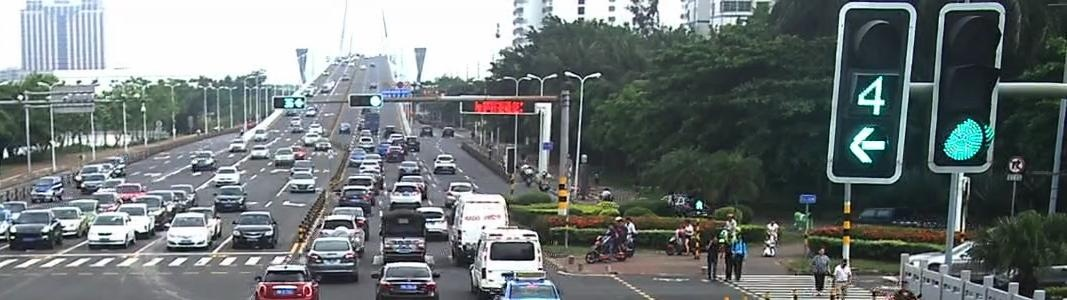green: (942, 117, 987, 161), (368, 93, 384, 106)
greenleft: (846, 124, 889, 169), (292, 95, 305, 110)
greenpeople: (695, 199, 707, 212)
greentime: (852, 73, 897, 117), (280, 97, 293, 110)
